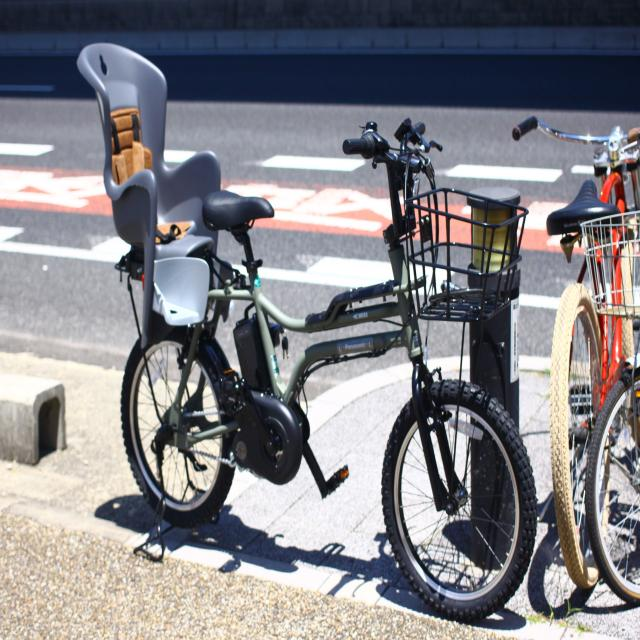basket: (407, 182, 530, 328)
battery: (237, 309, 276, 408)
childseat: (74, 38, 220, 351)
